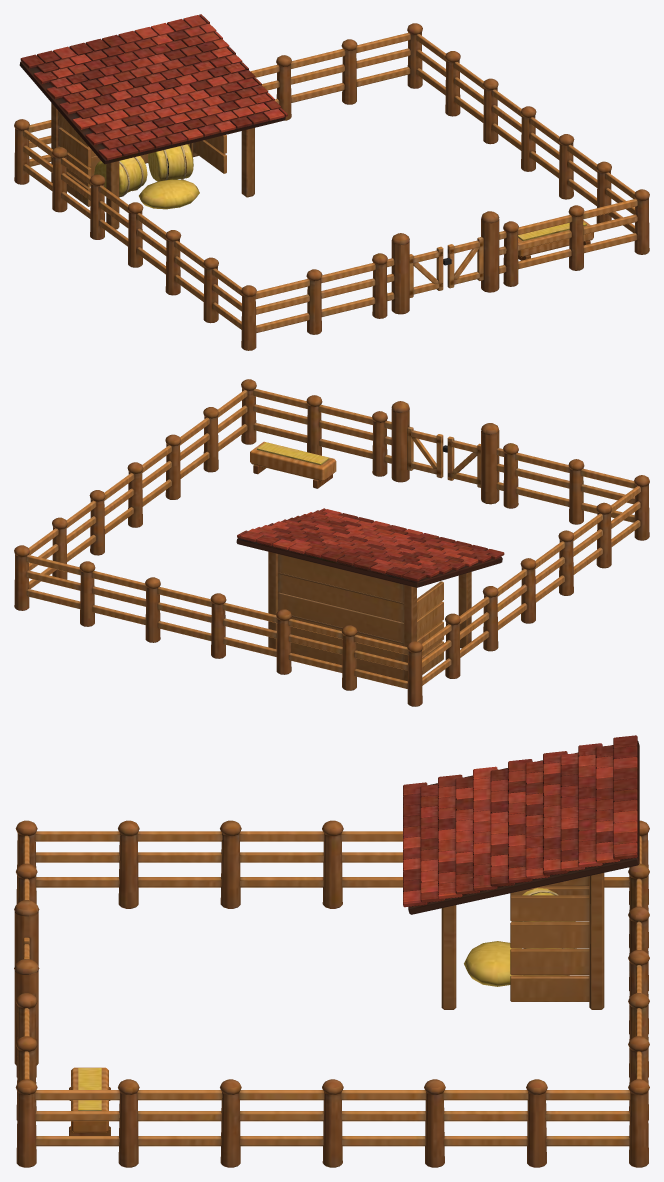
The model's file is hereford_ranch.glb.
The picture shows the model from 3 angles, top to bottom: view 1: azimuth 30°, elevation 25°; view 2: azimuth 150°, elevation 25°; view 3: azimuth 270°, elevation 25°; orthographic projection. The views are drawn at different scales.
Visible parts, largest first — view 1: hereford_ranch; view 2: hereford_ranch; view 3: hereford_ranch.
Part boxes in pixels (x1,y1,x2,y2): hereford_ranch: (14, 14, 649, 350); hereford_ranch: (14, 379, 649, 706); hereford_ranch: (14, 735, 649, 1167).
Size of the model in its own units: 3 by 0.9345 by 3.01.
Materials: 1 (1 with a texture image).
